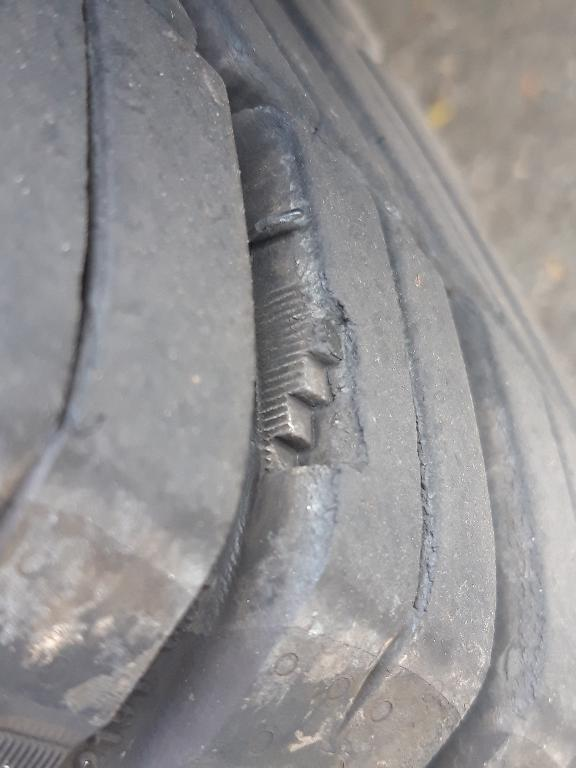temoin:80: (248, 265, 380, 489)
